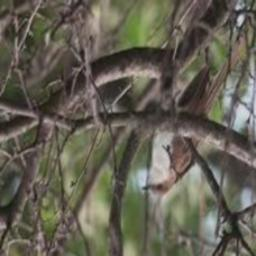Cuckoo: (143, 32, 252, 198)
